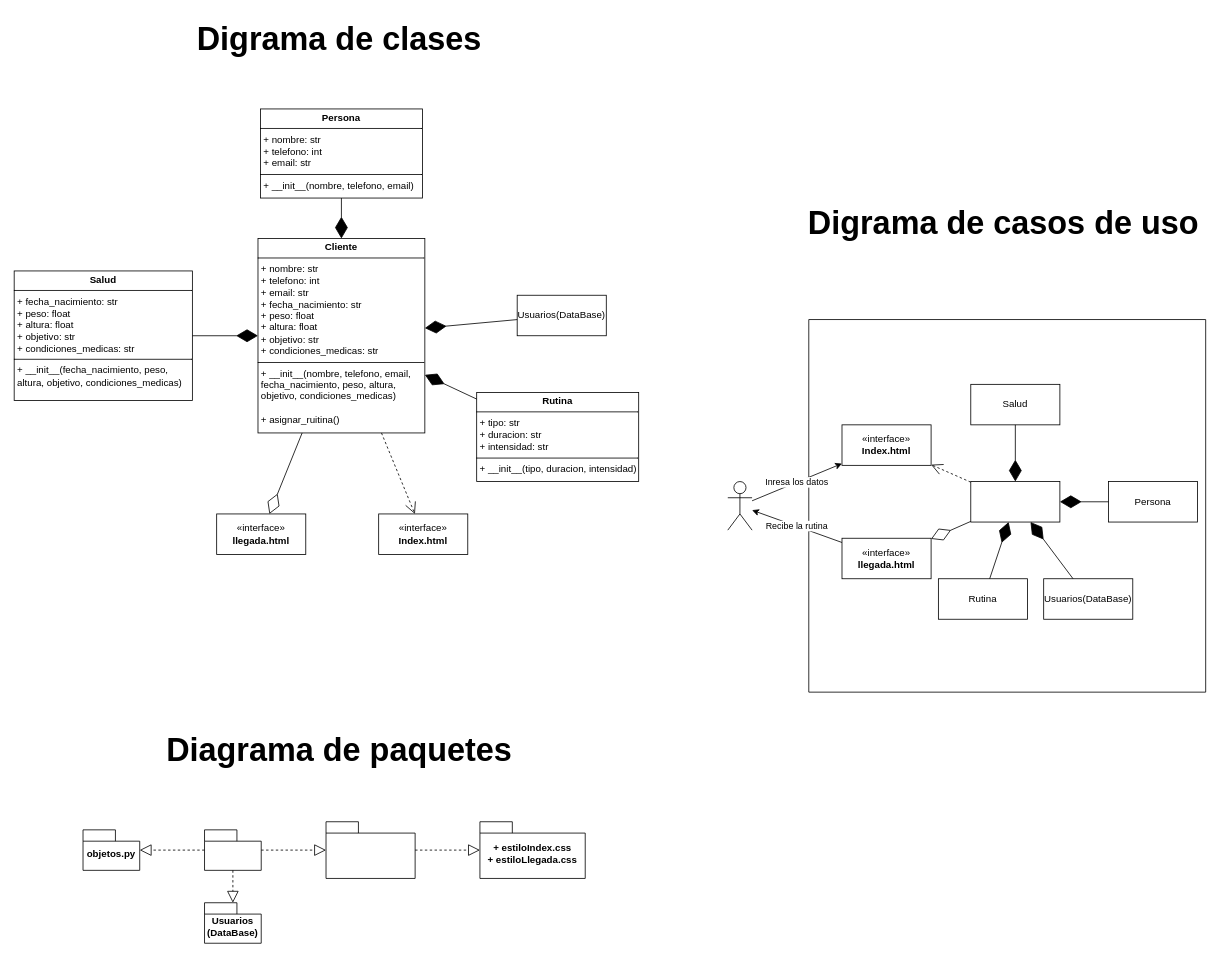
Image size: 1220x957. Some labels were removed from this diagram. Here are the shapes that lost their labels. From the top down, the centre of each, then its label:
At (x=739, y=505): "Entrenador".
At (x=1015, y=501): "Cliente".
At (x=232, y=849): "app.py".
At (x=370, y=849): "+ index.hmtl + llegada.html".
